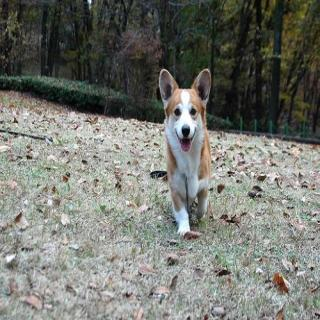dog: (160, 64, 214, 162)
nose: (181, 121, 191, 138)
